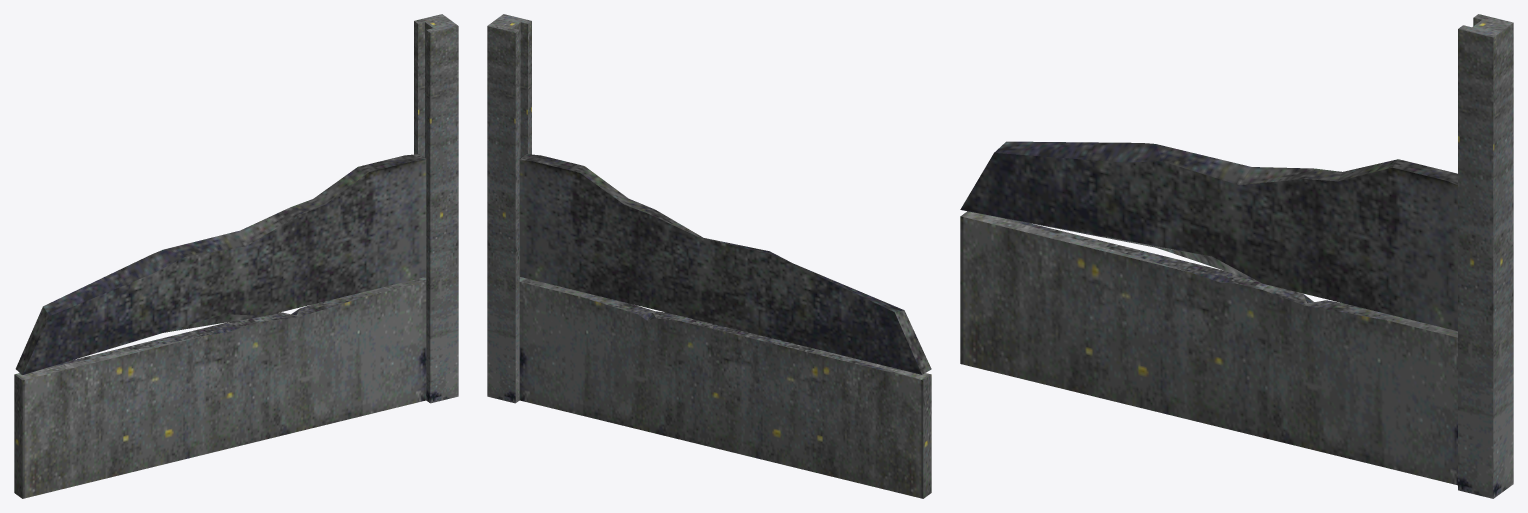
File: Urban_PlackardBroken_Alternate_0866c3_Model.fbx
The picture shows the model from 3 angles, left to right: view 1: azimuth 30°, elevation 25°; view 2: azimuth 150°, elevation 25°; view 3: azimuth 330°, elevation 25°; orthographic projection. The views are drawn at different scales.
Visible parts, largest first — view 1: Urban_PlackardBroken_Alternate_0866c3_Mesh; view 2: Urban_PlackardBroken_Alternate_0866c3_Mesh; view 3: Urban_PlackardBroken_Alternate_0866c3_Mesh.
Part boxes in pixels (x1,y1,x2,y2): Urban_PlackardBroken_Alternate_0866c3_Mesh: (14,14,458,498); Urban_PlackardBroken_Alternate_0866c3_Mesh: (487,14,931,498); Urban_PlackardBroken_Alternate_0866c3_Mesh: (960,14,1513,498).
Bounding box in the file's own units: 3.05 × 2.5 × 0.2.
